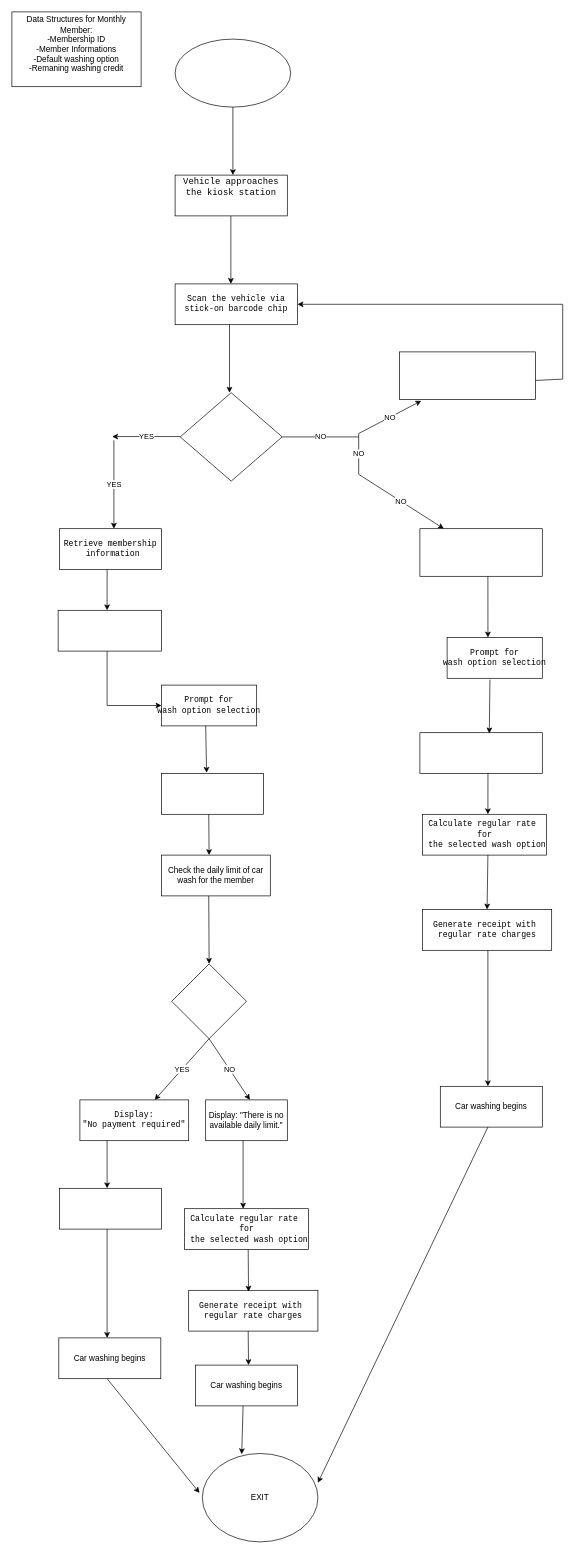
This 580x1554 diagram has some shape labels left out. Each missing label, with the centre of its shape:
"Display error message: Member not found" goes at [480,552].
"Display error message: Stick-on chip not detected or read failed" goes at [467,375].
"Display member details and options" goes at [109,630].
"Generate receipt without any charges" goes at [110,1208].
"Getting input for car wash option from the customer" goes at [480,753].
"If remaning limit >0" goes at [209,1001].
"If stick-on chip detected and read successfully" goes at [231,436].
"START" goes at [232,72].
"The member selects car wash option" goes at [212,793].
